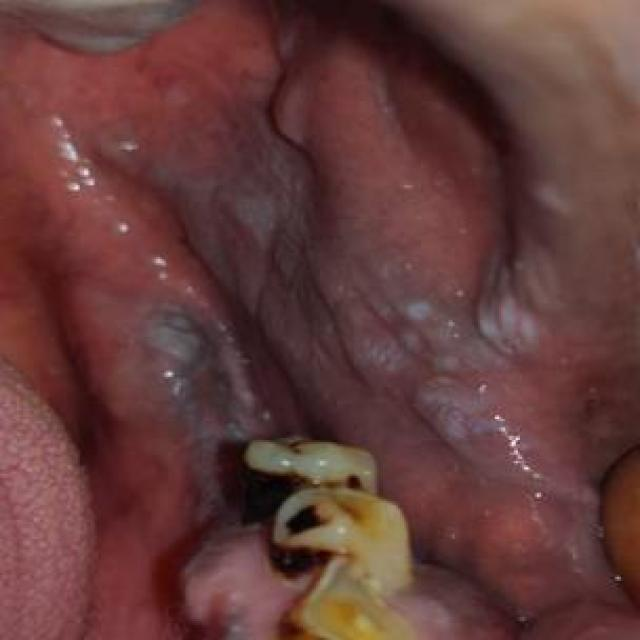leukoplakia-detection: (98, 26, 543, 579)
processing_area: (2, 1, 638, 638)
